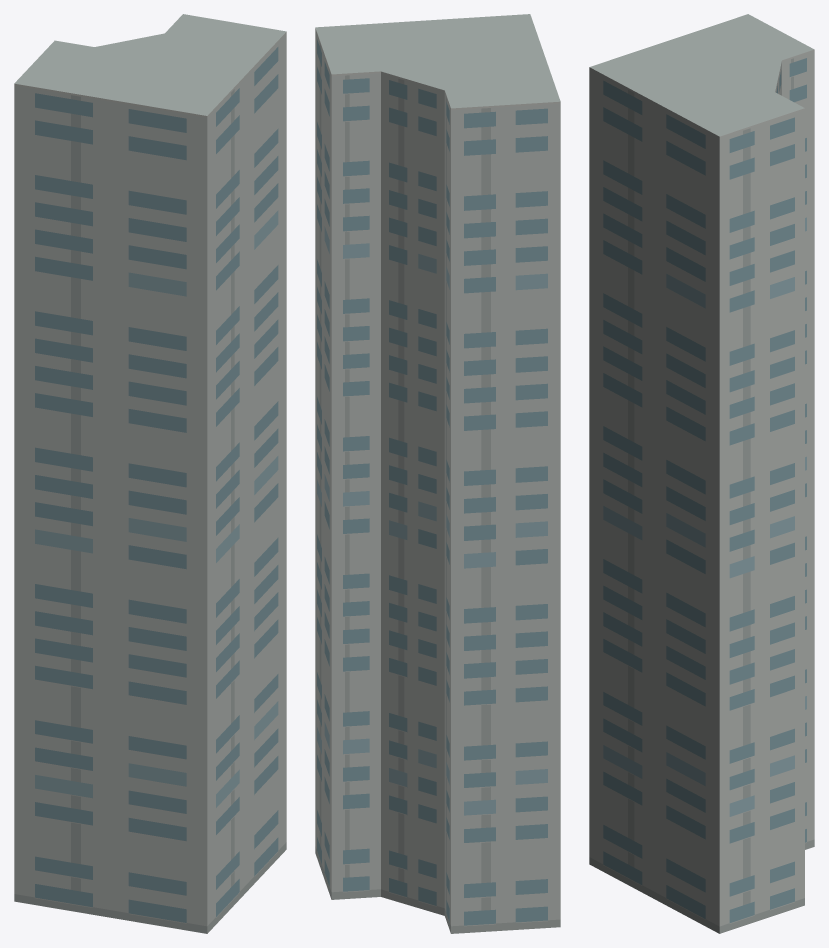
The model's file is residential-738ef685-d971-4253-b6dd-1e3370872a3b.glb.
The picture shows the model from 3 angles, left to right: view 1: azimuth 30°, elevation 25°; view 2: azimuth 150°, elevation 25°; view 3: azimuth 270°, elevation 25°; orthographic projection. The views are drawn at different scales.
Parts seen in each view (by area): view 1: residential-738ef685-d971-4253-b6dd-1e3370872a3b.tmp; view 2: residential-738ef685-d971-4253-b6dd-1e3370872a3b.tmp; view 3: residential-738ef685-d971-4253-b6dd-1e3370872a3b.tmp.
Boxes of the visible parts, left/top/right/bottom form: residential-738ef685-d971-4253-b6dd-1e3370872a3b.tmp: left=14, top=14, right=286, bottom=933; residential-738ef685-d971-4253-b6dd-1e3370872a3b.tmp: left=315, top=14, right=560, bottom=933; residential-738ef685-d971-4253-b6dd-1e3370872a3b.tmp: left=589, top=14, right=814, bottom=933.
Bounding box in the file's own units: 33.99 × 103 × 26.38.
